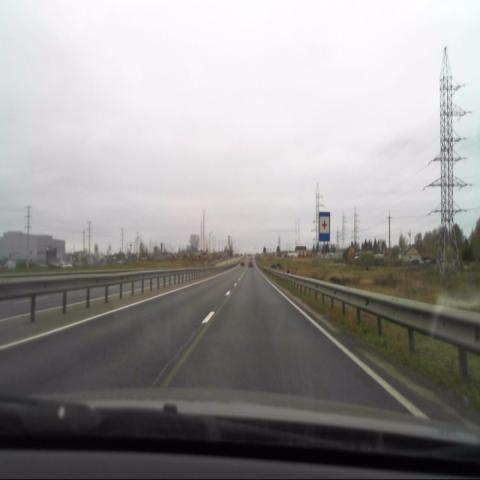7_1: (318, 211, 330, 242)
